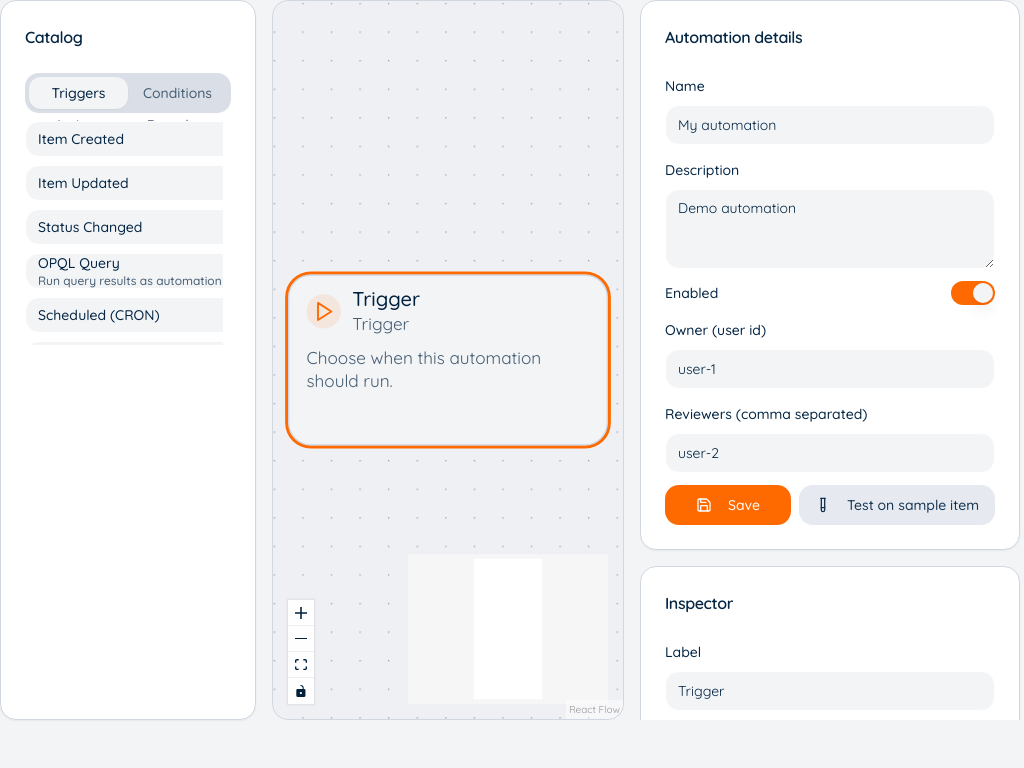
Scenario: AutomationBuilder › runs a dry-run test and refreshes history
Click the button "Test on sample item": (897, 505) [799,485,995,525]
(page scrolled)
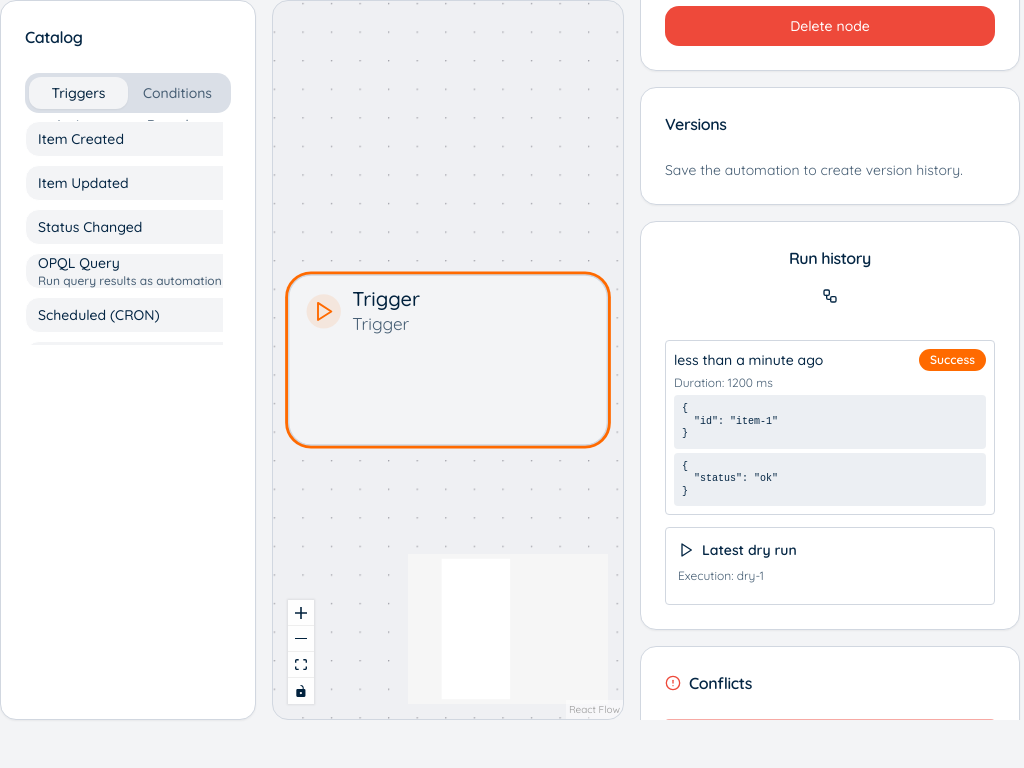
Result: the text "Success" is shown at [919,349,986,371]
